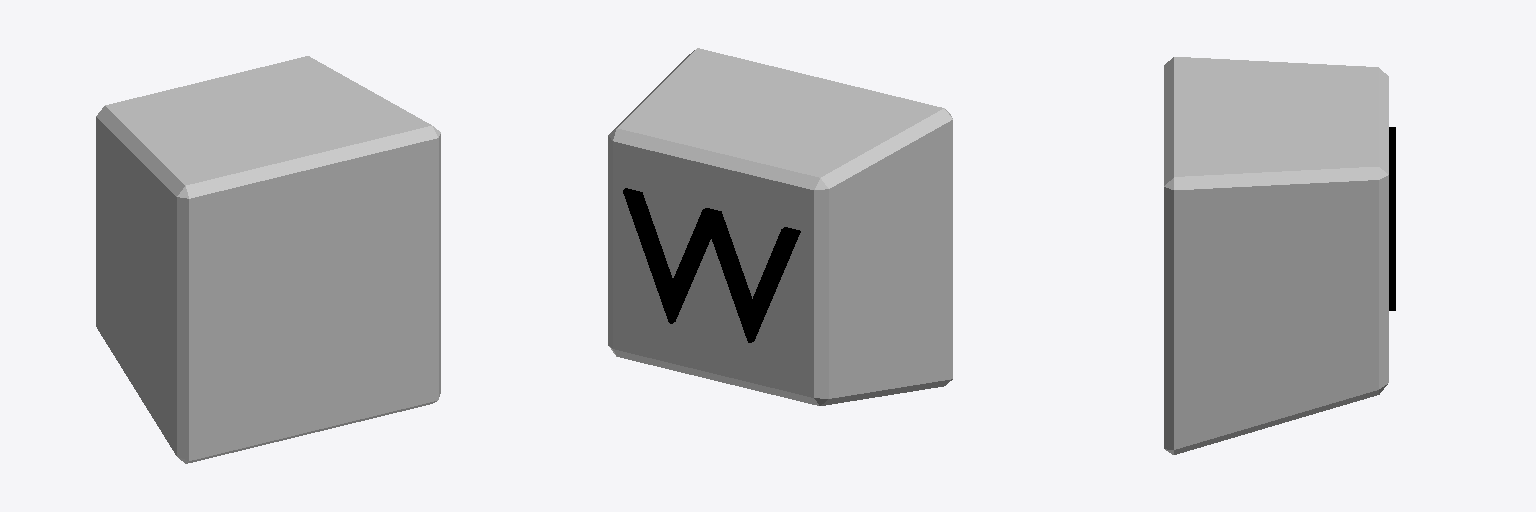
The model's file is W_key.obj.
3 renders of one model, left to right at view 1: azimuth 30°, elevation 25°; view 2: azimuth 150°, elevation 25°; view 3: azimuth 270°, elevation 25°, orthographic.
Parts seen in each view (by area): view 1: Cube; view 2: Cube, Text; view 3: Cube, Text.
Part boxes in pixels (left/top/right/bottom): Cube: left=96, top=56, right=440, bottom=463; Cube: left=608, top=48, right=952, bottom=405; Text: left=623, top=188, right=800, bottom=342; Cube: left=1164, top=57, right=1388, bottom=454; Text: left=1389, top=127, right=1395, bottom=310.
Bounding box in the file's own units: 0.9074 × 0.9126 × 0.6894.